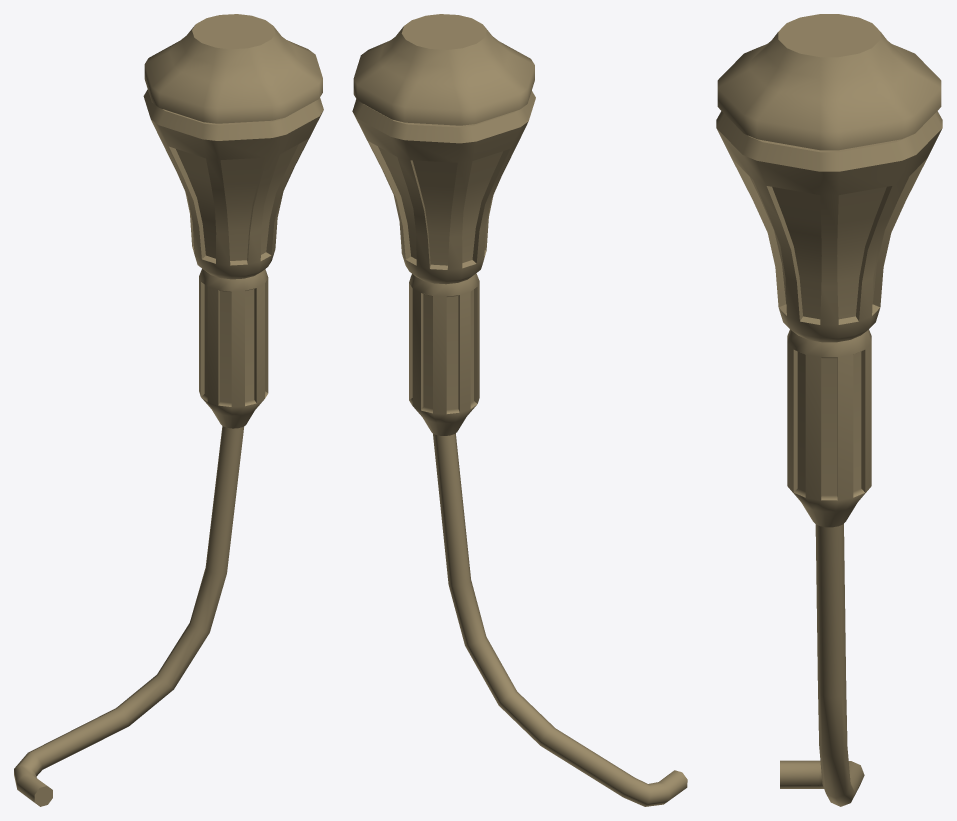
The model's file is SP_House02_Pipe03.fbx.
The picture shows the model from 3 angles, left to right: view 1: azimuth 30°, elevation 25°; view 2: azimuth 150°, elevation 25°; view 3: azimuth 270°, elevation 25°; orthographic projection. The views are drawn at different scales.
Visible parts, largest first — view 1: SP_House02_Pipe03; view 2: SP_House02_Pipe03; view 3: SP_House02_Pipe03.
Boxes of the visible parts, x1=… form: SP_House02_Pipe03: x1=14, y1=14, x2=323, y2=806; SP_House02_Pipe03: x1=352, y1=14, x2=687, y2=806; SP_House02_Pipe03: x1=716, y1=14, x2=942, y2=806.
Size of the model in its own units: 3 by 6.82 by 1.59.
